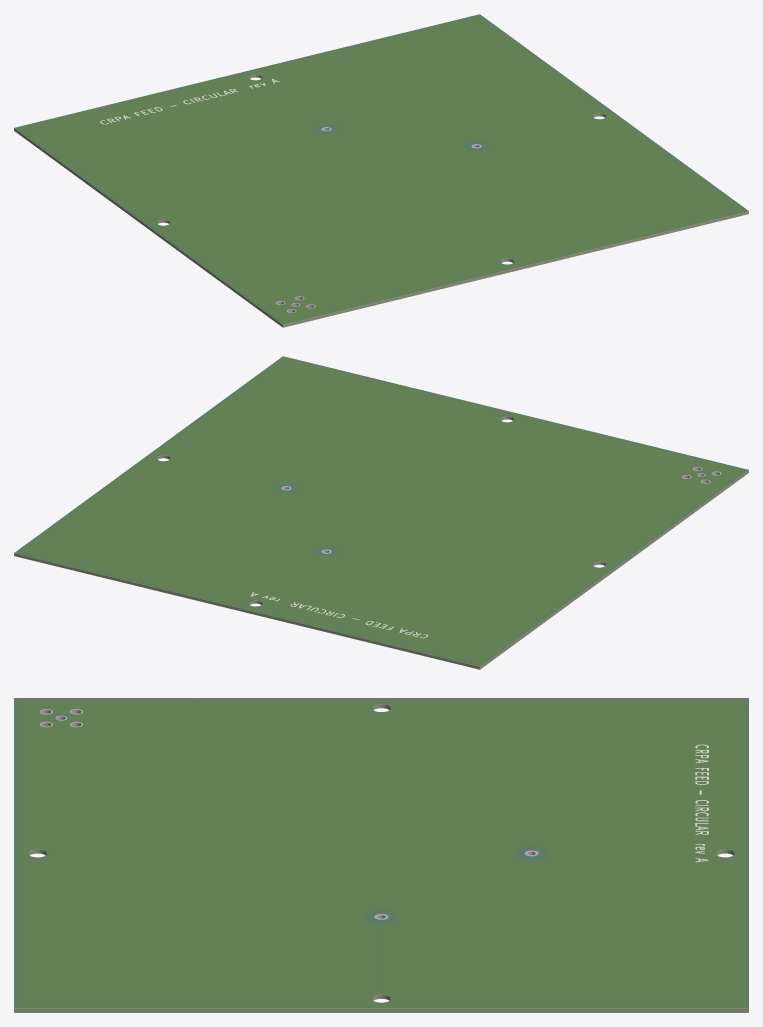
File: feed_circular.glb
3 views of the same model, one above another, from view 1: azimuth 30°, elevation 25°; view 2: azimuth 150°, elevation 25°; view 3: azimuth 270°, elevation 25° (orthographic). The views are drawn at different scales.
Parts seen in each view (by area): view 1: =>[0:1:1:11], =>[0:1:1:6], =>[0:1:1:13]; view 2: =>[0:1:1:11], =>[0:1:1:6], =>[0:1:1:13]; view 3: =>[0:1:1:11], =>[0:1:1:6], =>[0:1:1:13], =>[0:1:1:12], =>[0:1:1:9].
Part boxes in pixels (x1,y1,x2,y2): =>[0:1:1:11]: (14, 14, 748, 324); =>[0:1:1:6]: (18, 16, 744, 322); =>[0:1:1:13]: (14, 15, 748, 327); =>[0:1:1:11]: (14, 356, 748, 666); =>[0:1:1:6]: (18, 358, 744, 664); =>[0:1:1:13]: (14, 357, 748, 669); =>[0:1:1:11]: (14, 698, 748, 1008); =>[0:1:1:6]: (17, 700, 745, 1006); =>[0:1:1:13]: (14, 699, 748, 1012); =>[0:1:1:12]: (14, 708, 748, 1012); =>[0:1:1:9]: (695, 744, 708, 862).
Bounding box in the file's own units: 0.124 × 0.00163 × 0.124.
